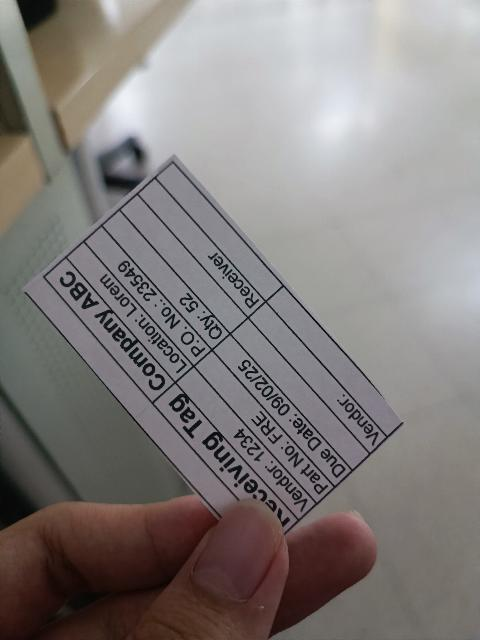PO no: (83, 227, 214, 364)
part no: (193, 351, 335, 505)
qty: (101, 211, 231, 351)
tags: (22, 158, 403, 538)
